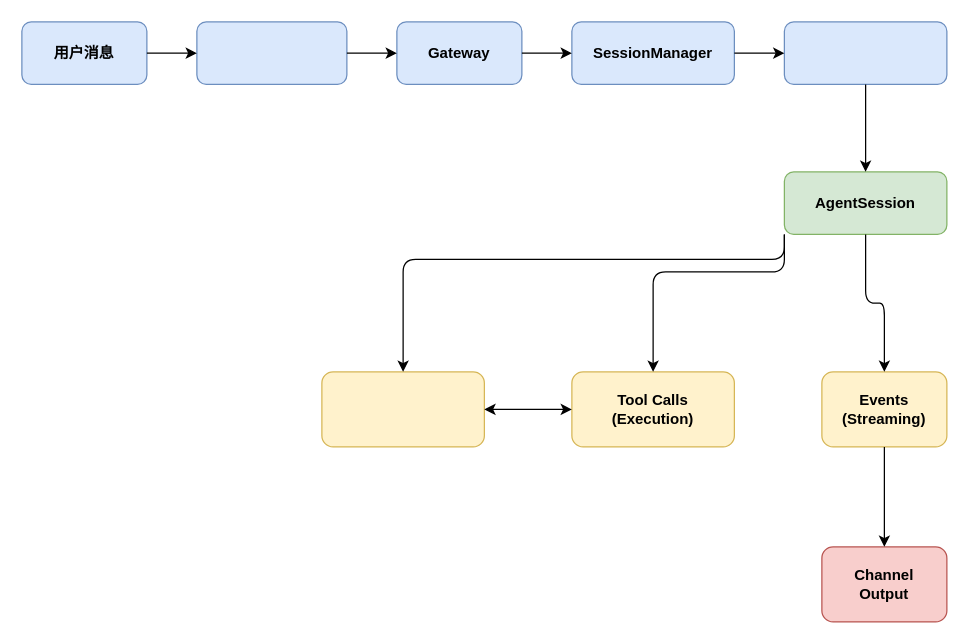
Image size: 969x644. Some labels were removed from this diagram. Here are the shapes that lost their labels. From the top down, the centre of each, then its label:
(271,52): ChannelAdapter
(865,52): PiAgentRuntime
(402,409): LLM Provider (Streaming)
